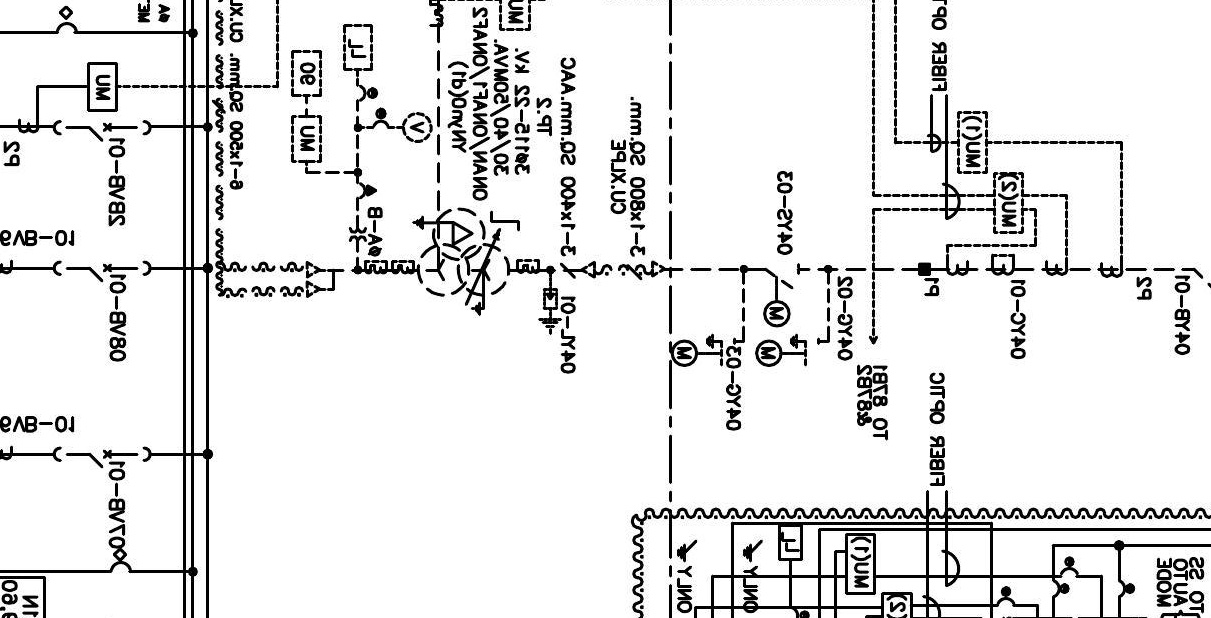22_breaker: (52, 119, 152, 142), (53, 446, 152, 469), (53, 260, 152, 283)
LL: (777, 524, 804, 561)
MU: (845, 533, 877, 595), (86, 62, 119, 112)
